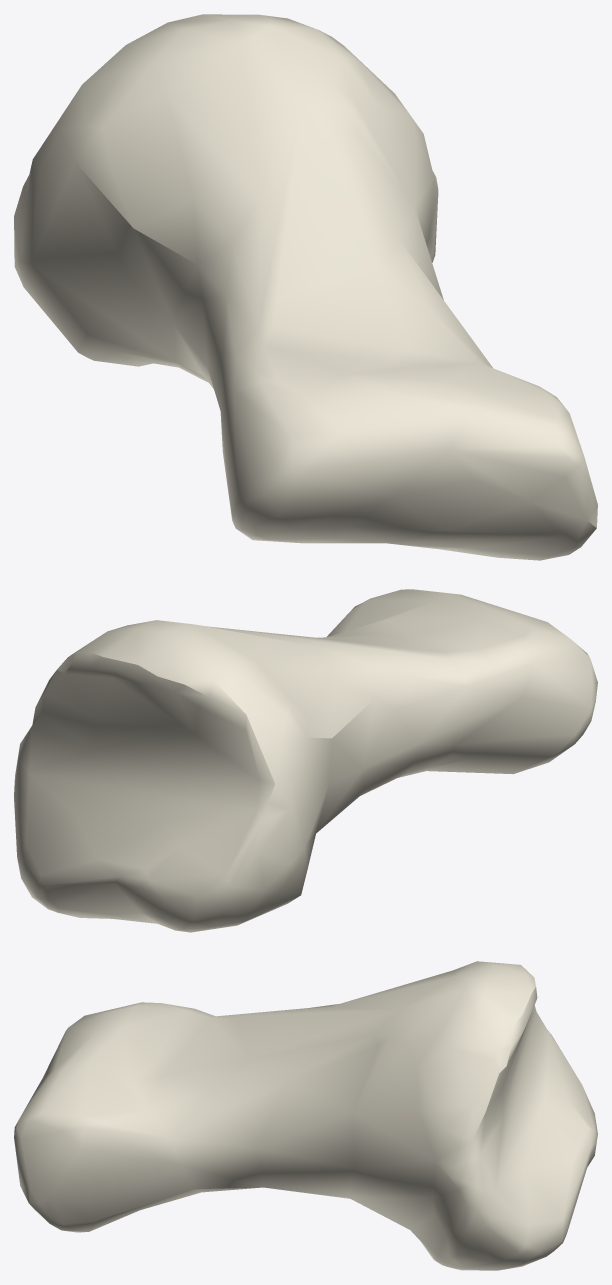
File: fma32644.glb
The picture shows the model from 3 angles, top to bottom: view 1: azimuth 30°, elevation 25°; view 2: azimuth 150°, elevation 25°; view 3: azimuth 270°, elevation 25°; orthographic projection. The views are drawn at different scales.
Visible parts, largest first — view 1: FMA32644; view 2: FMA32644; view 3: FMA32644.
Part boxes in pixels (box(x1,y1,x2,y2)): FMA32644: box(14, 14, 597, 560); FMA32644: box(14, 589, 597, 932); FMA32644: box(14, 961, 597, 1270).
Bounding box in the file's own units: 0.0109 × 0.0082 × 0.0169.
